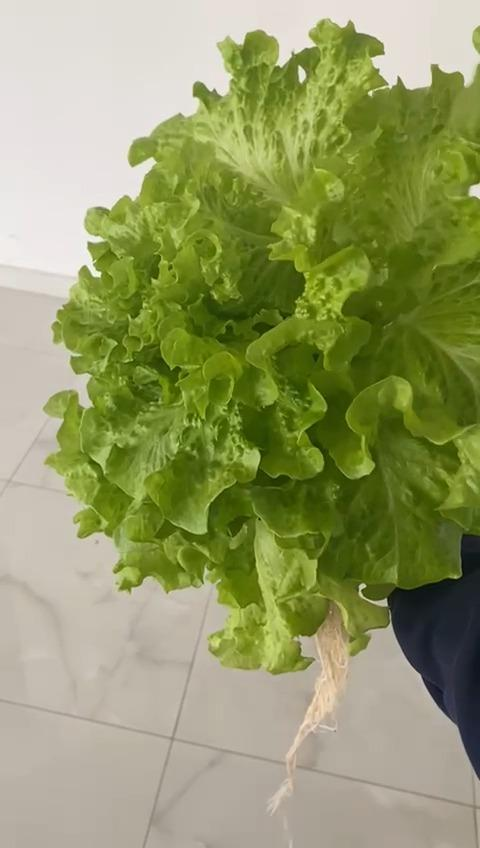Healthy Lettuce: (45, 22, 480, 669)
